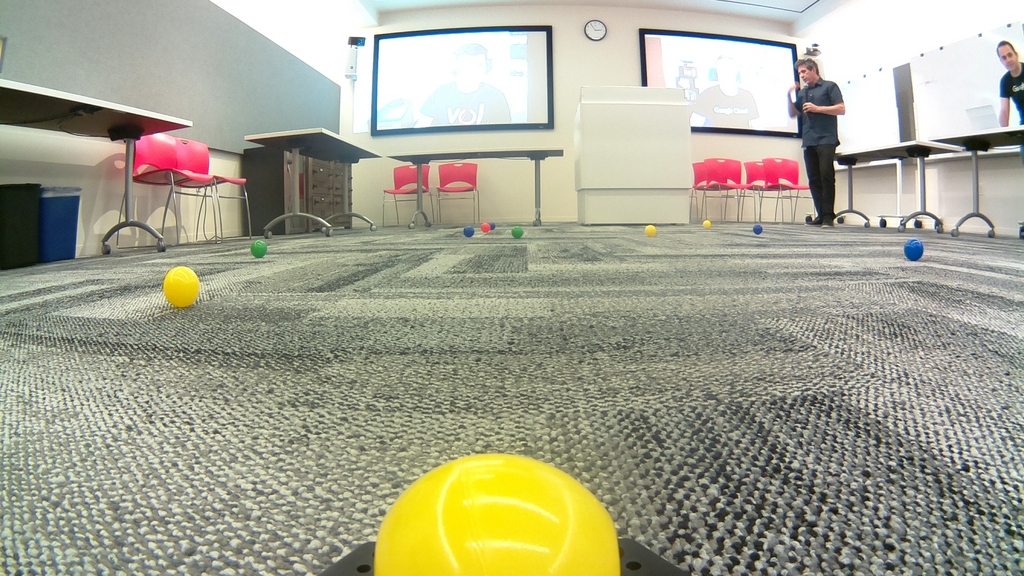ball: (511, 226, 523, 238)
